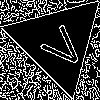V: (32, 17, 89, 73)
